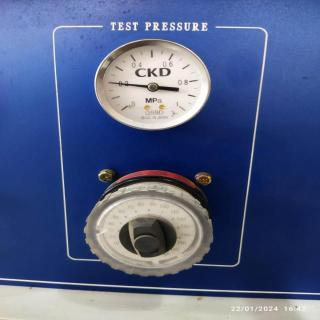gauge: (90, 35, 214, 133), (116, 100, 136, 116), (173, 100, 191, 116), (147, 83, 157, 91), (108, 80, 114, 85)
